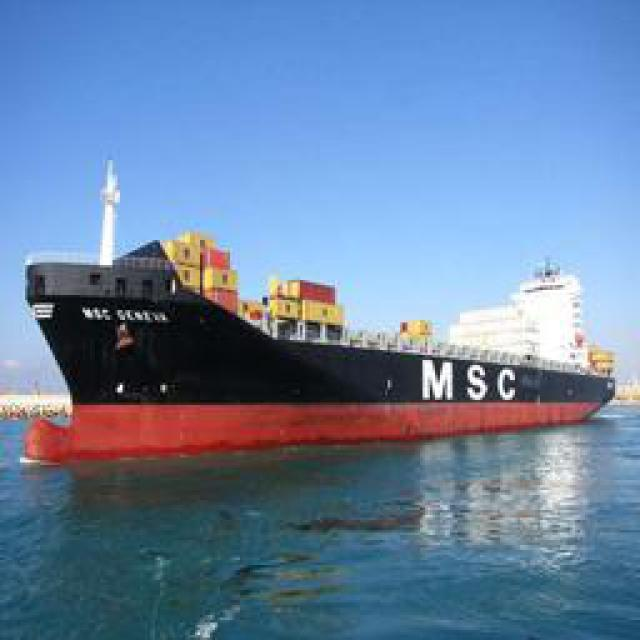Ship: (30, 242, 615, 462)
